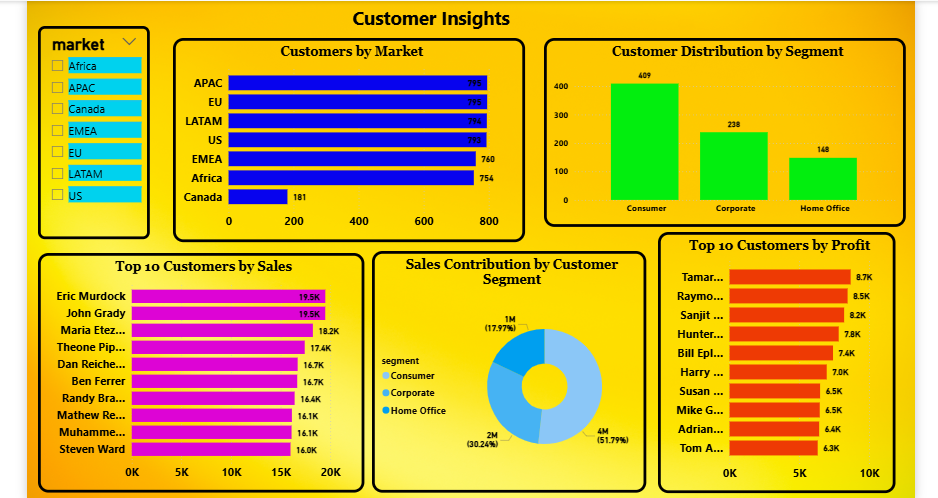

This screenshot's page, from the dashboard's own definition file:
{"tool":"powerbi","page":{"name":"Customer Insights","canvas":[1280,720],"ordinal":2},"visuals":[{"type":"clusteredBarChart","title":"Top 10 Customers by Sales","fields":{"Category":["cleaned_sales_data.customer_name"],"Y":["Sum(cleaned_sales_data.sales)"]},"box":[16.1,362.9,469.8,345.4],"z":0},{"type":"clusteredBarChart","title":"Top 10 Customers by Profit","fields":{"Category":["cleaned_sales_data.customer_name"],"Y":["Sum(cleaned_sales_data.profit)"]},"box":[908.8,332.2,342.4,376.1],"z":1000},{"type":"donutChart","title":"Sales Contribution by Customer Segment","fields":{"Category":["cleaned_sales_data.segment"],"Y":["Sum(cleaned_sales_data.sales)"]},"box":[496.1,360,395.1,348.3],"z":2000},{"type":"columnChart","title":"Customer Distribution by Segment","fields":{"Category":["cleaned_sales_data.segment"],"Y":["Count(cleaned_sales_data.customer_name)"]},"box":[744.5,53.3,521.3,272.2],"z":3000},{"type":"barChart","title":"Customers by Market","fields":{"Category":["cleaned_sales_data.market"],"Y":["Count(cleaned_sales_data.customer_name)"]},"box":[210.2,53.3,506.9,293.8],"z":4000},{"type":"slicer","fields":{"Values":["cleaned_sales_data.market"]},"box":[15.8,36,161.3,306.7],"z":5000},{"type":"textbox","box":[463.7,0,301,50.4],"z":6000}]}

Visuals, with their boxes in screenshot pixels (x1, y1, x2, y2):
"Top 10 Customers by Sales" clusteredBarChart: (left=40, top=253, right=361, bottom=488)
"Top 10 Customers by Profit" clusteredBarChart: (left=650, top=232, right=883, bottom=488)
"Sales Contribution by Customer Segment" donutChart: (left=368, top=251, right=638, bottom=488)
"Customer Distribution by Segment" columnChart: (left=537, top=41, right=893, bottom=227)
"Customers by Market" barChart: (left=173, top=41, right=519, bottom=242)
slicer - cleaned_sales_data.market: (left=40, top=29, right=150, bottom=239)
textbox: (left=346, top=5, right=551, bottom=39)
